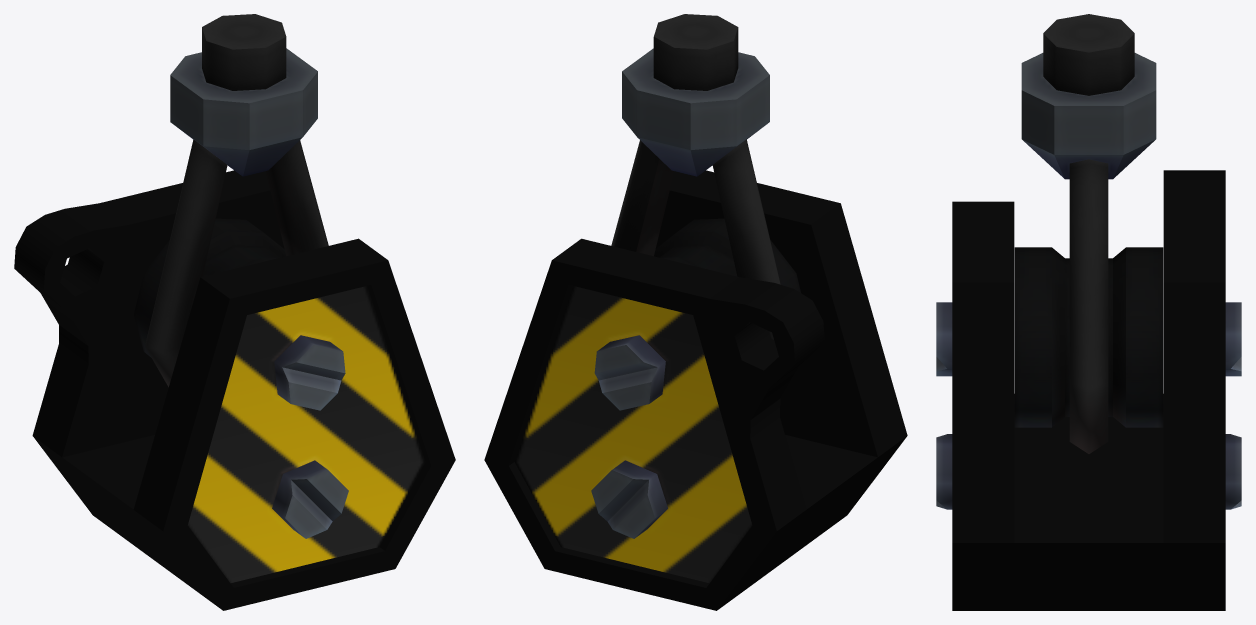
The model's file is obj_warehouse_cranehook_base.fbx.
The picture shows the model from 3 angles, left to right: view 1: azimuth 30°, elevation 25°; view 2: azimuth 150°, elevation 25°; view 3: azimuth 270°, elevation 25°; orthographic projection. The views are drawn at different scales.
Visible parts, largest first — view 1: _hookbase_LP_1_hookbase_01_lp; view 2: _hookbase_LP_1_hookbase_01_lp; view 3: _hookbase_LP_1_hookbase_01_lp.
Boxes of the visible parts, <box> form: _hookbase_LP_1_hookbase_01_lp: <box>14,14,455,610</box>; _hookbase_LP_1_hookbase_01_lp: <box>484,14,907,610</box>; _hookbase_LP_1_hookbase_01_lp: <box>936,14,1241,610</box>.
Bounding box in the file's own units: 3.19 × 5 × 2.59.
